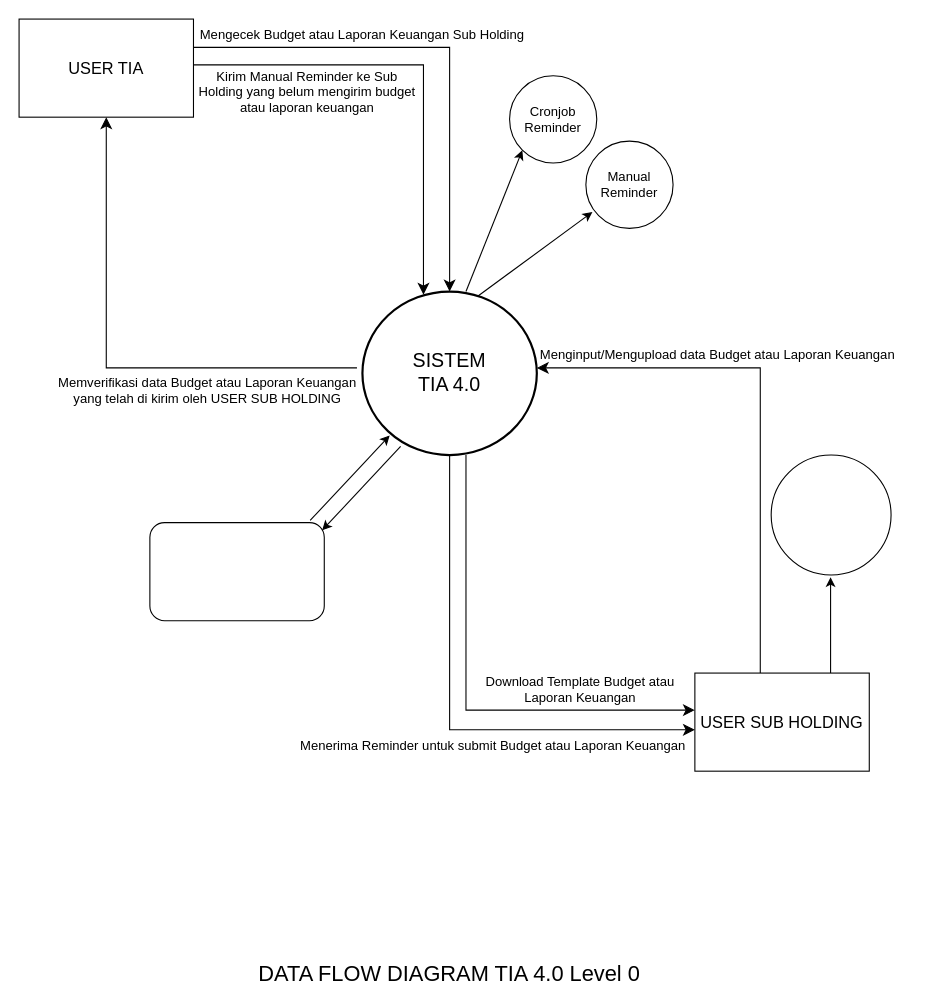
This 928x1008 diagram has some shape labels left out. Here are the shapes that lost their labels. From the top down, the centre of each, then its label:
pixel 830 514: Menyusun Budget dan Laporan Keuangan
pixel 236 571: Template Laporan Keuangan Storage File
